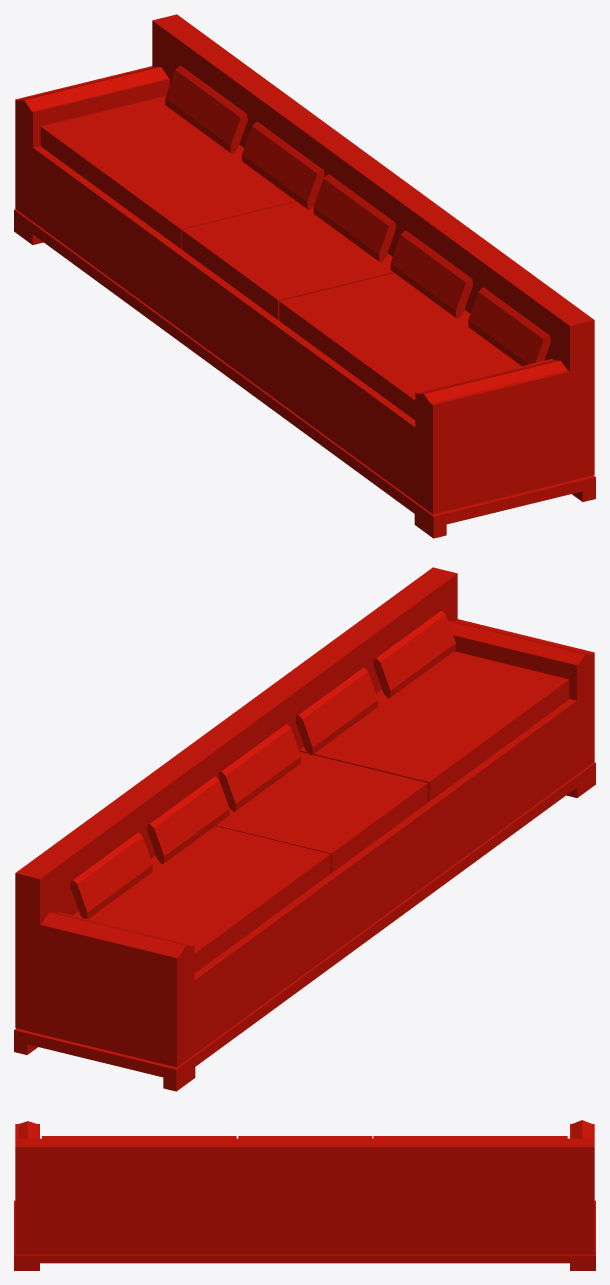
Rendered from couch.gltf.
3 views of the same model, one above another, from view 1: azimuth 30°, elevation 25°; view 2: azimuth 150°, elevation 25°; view 3: azimuth 270°, elevation 25° (orthographic). The views are drawn at different scales.
Parts seen in each view (by area): view 1: Cube_011_Cube.021; view 2: Cube_011_Cube.021; view 3: Cube_011_Cube.021.
Boxes of the visible parts, x1,y1,x2,y2 form: Cube_011_Cube.021: [14, 14, 595, 538]; Cube_011_Cube.021: [14, 567, 595, 1091]; Cube_011_Cube.021: [14, 1120, 595, 1270].
Size of the model in its own units: 0.7622 by 0.7992 by 3.41.
